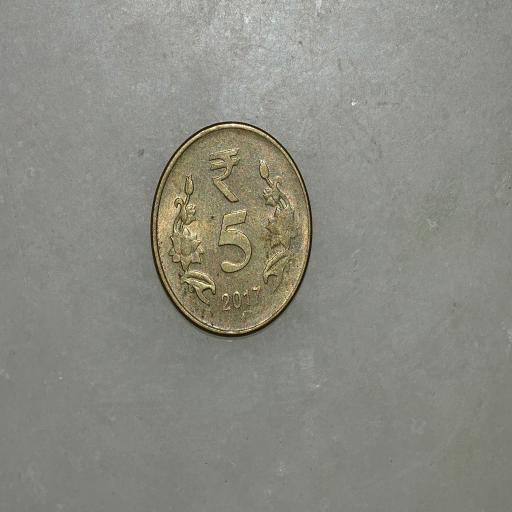rupee5: (148, 119, 321, 338)
